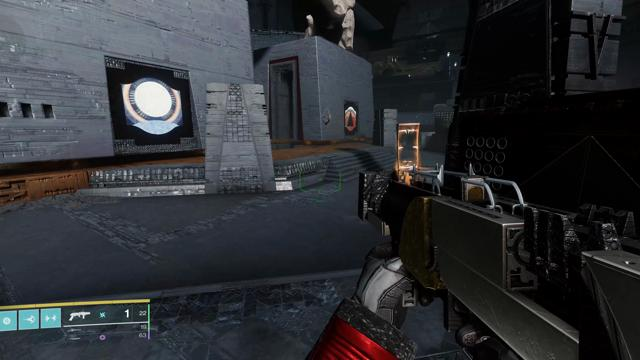pyramid: (345, 106, 356, 131)
traveler: (122, 78, 183, 134)
